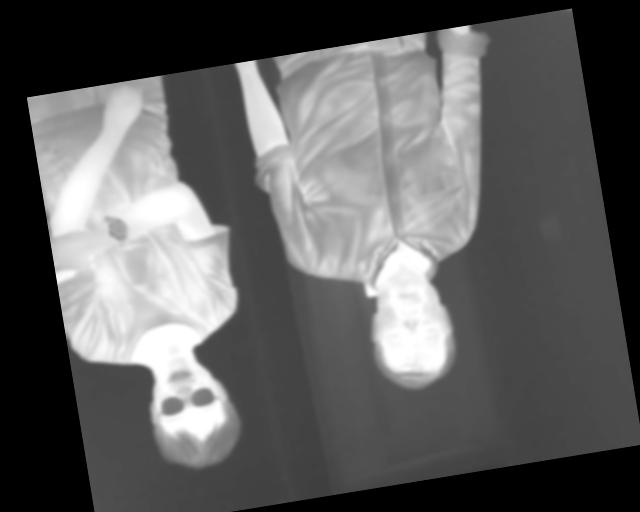face: (359, 260, 461, 397), (140, 346, 244, 474)
